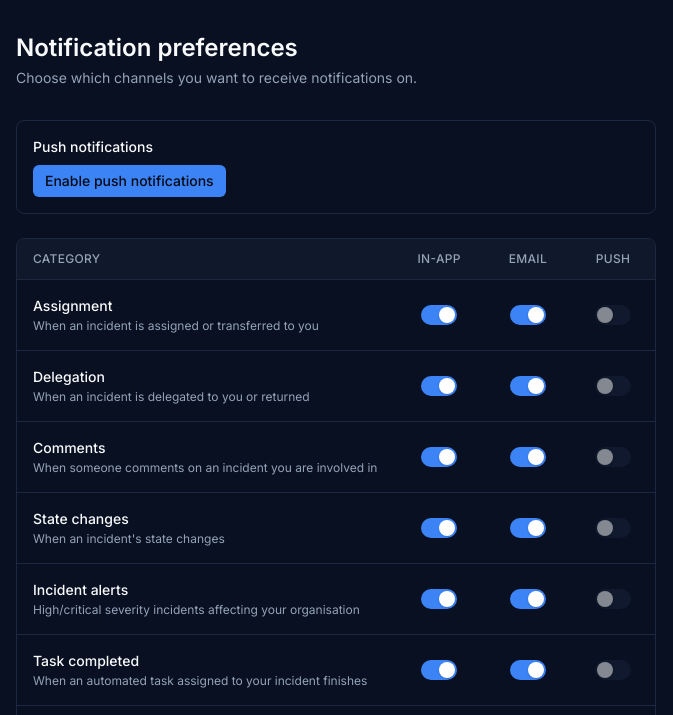
Scenario: NotificationPreferences › shows error message when save fails
The width and height of the screenshot is (673, 715).
Expected: the text "Comments" is shown, [33,439,105,456]
What coordinates should you click on to do the following:
click the switch named "comments email"
I would click on:
 (528, 457)
Its box is [510,447,546,467].
(page scrolled)
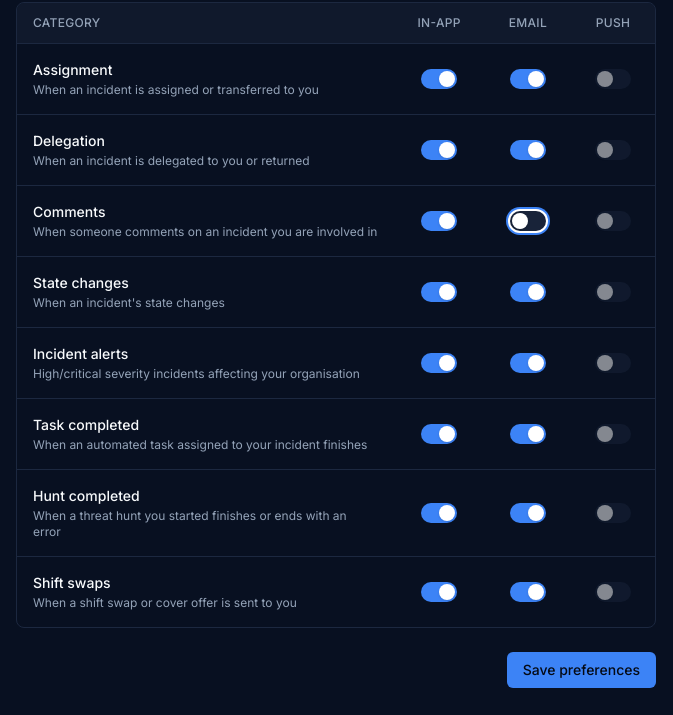
What coordinates should you click on to do the following:
click the button "Save preferences"
I would click on:
 (581, 670)
Its box is [507,652,656,688].
(page scrolled)
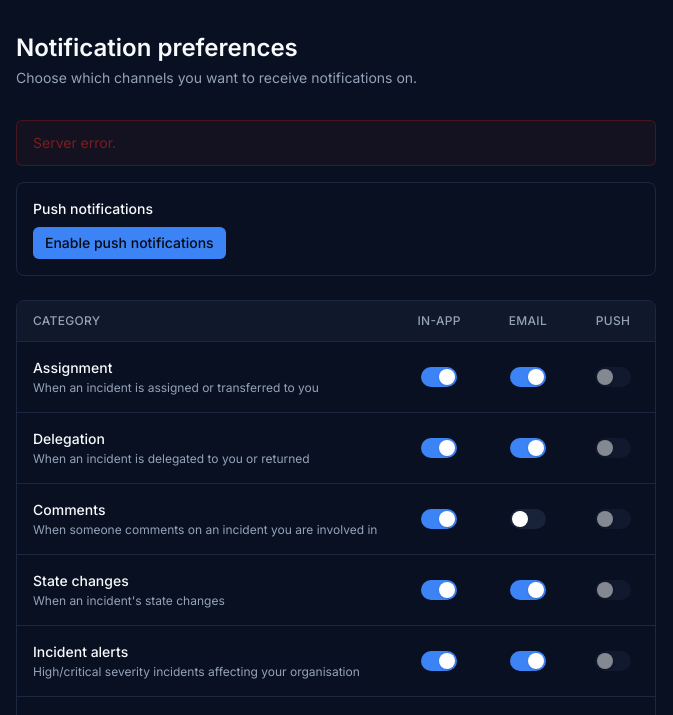
Now the message reads "Server error.", box [33,134,116,151]
